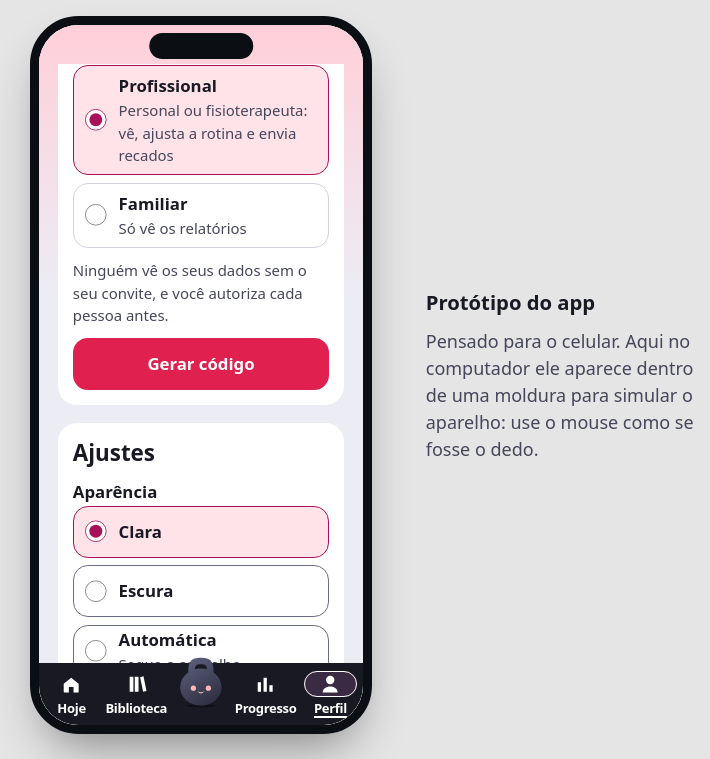
Test: aviso do convite como região viva › copiar o código troca o texto da MESMA região, que passa a ficar visível
(page scrolled)
Click the button "Gerar código". click: click(201, 364)
box: [73,338,329,390]
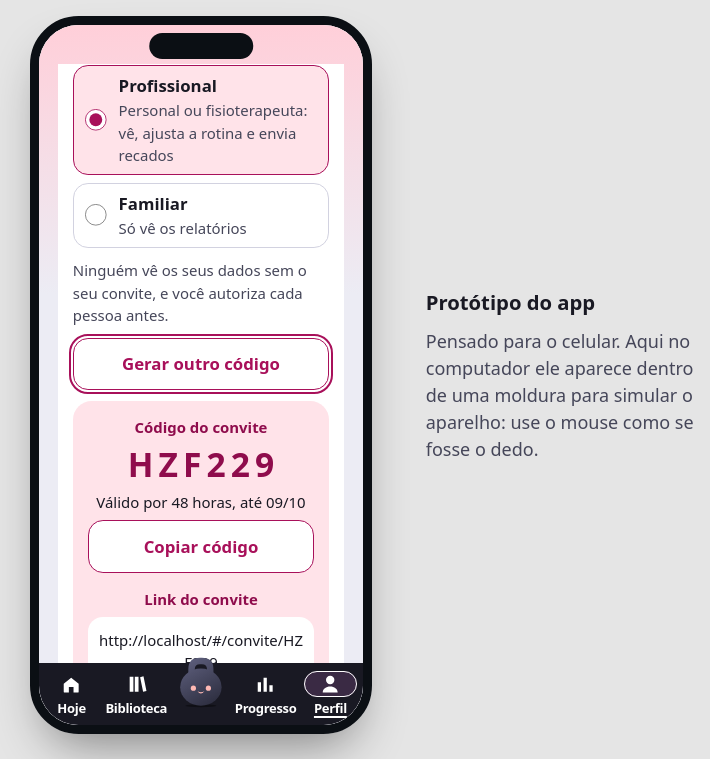
Click the button "Copiar código". click: click(201, 547)
box: [88,520,314,573]
(page scrolled)
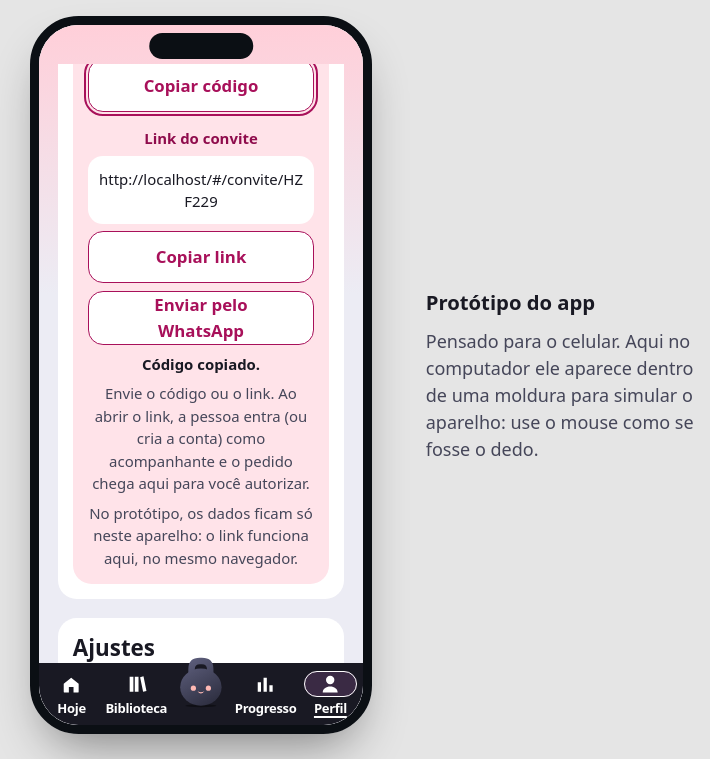
Expected: the message reads "Código copiado.", [142,354,260,374]
Expected: the message "Código copiado." is shown, [142,352,260,375]
